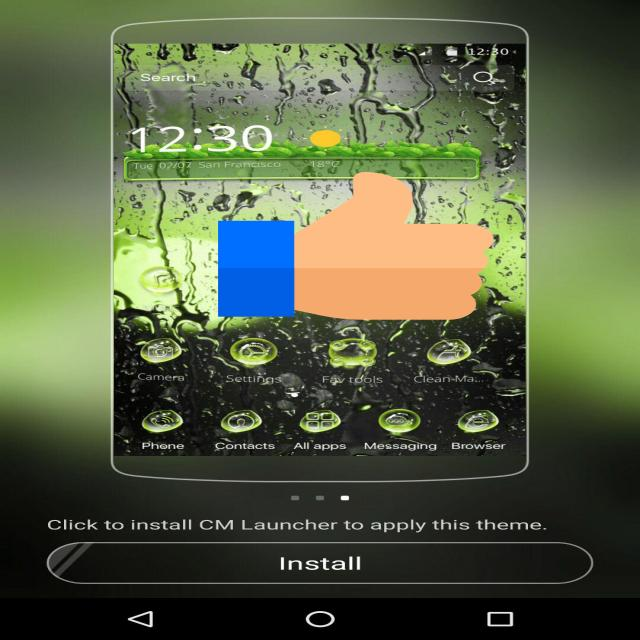privacy zuckering: (218, 168, 494, 324)
